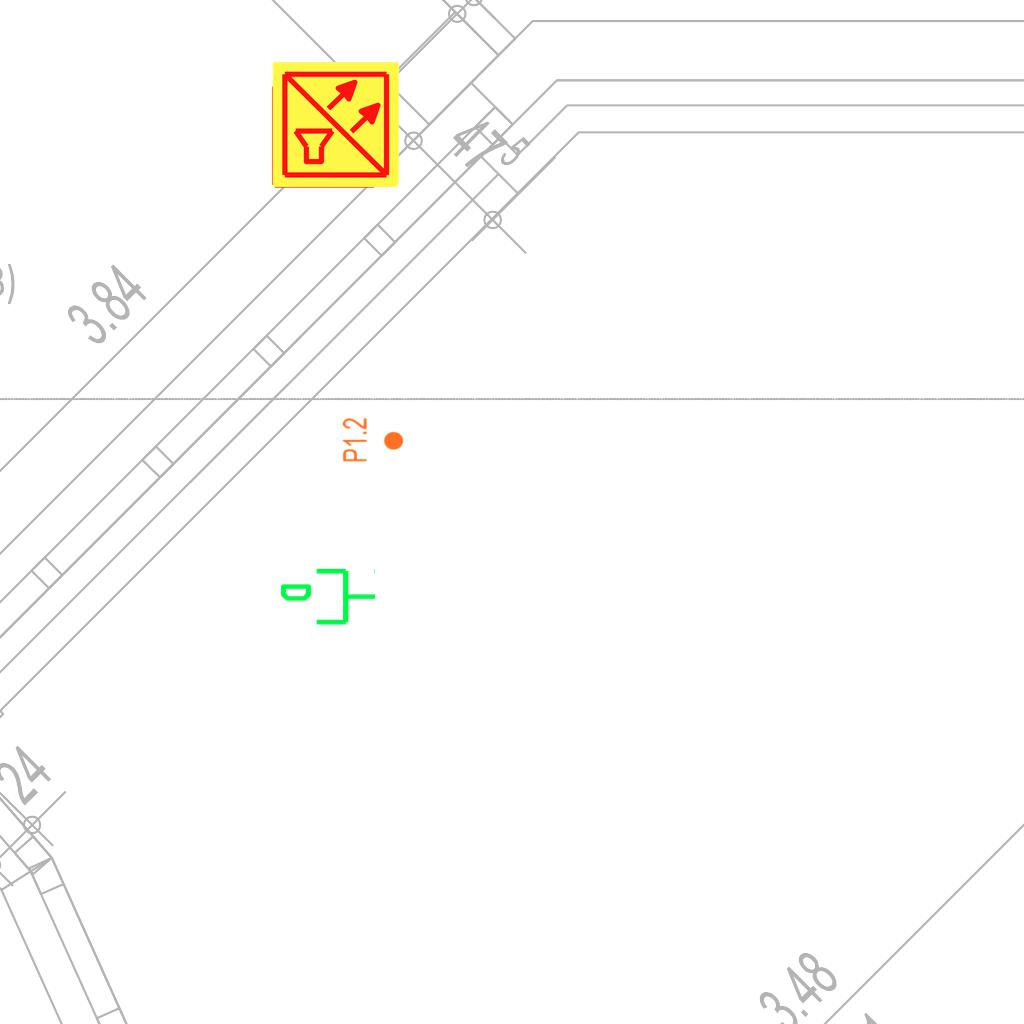Datenanschluss_einfach: (278, 564, 378, 633)
Downlight_LED_Einbauleuchten_Flur: (341, 417, 405, 463)
OKW_Multisensormelder_(Kombination_optischer_Rauch-Kahlenmonoxid_Waerme-Melder): (270, 59, 402, 191)
